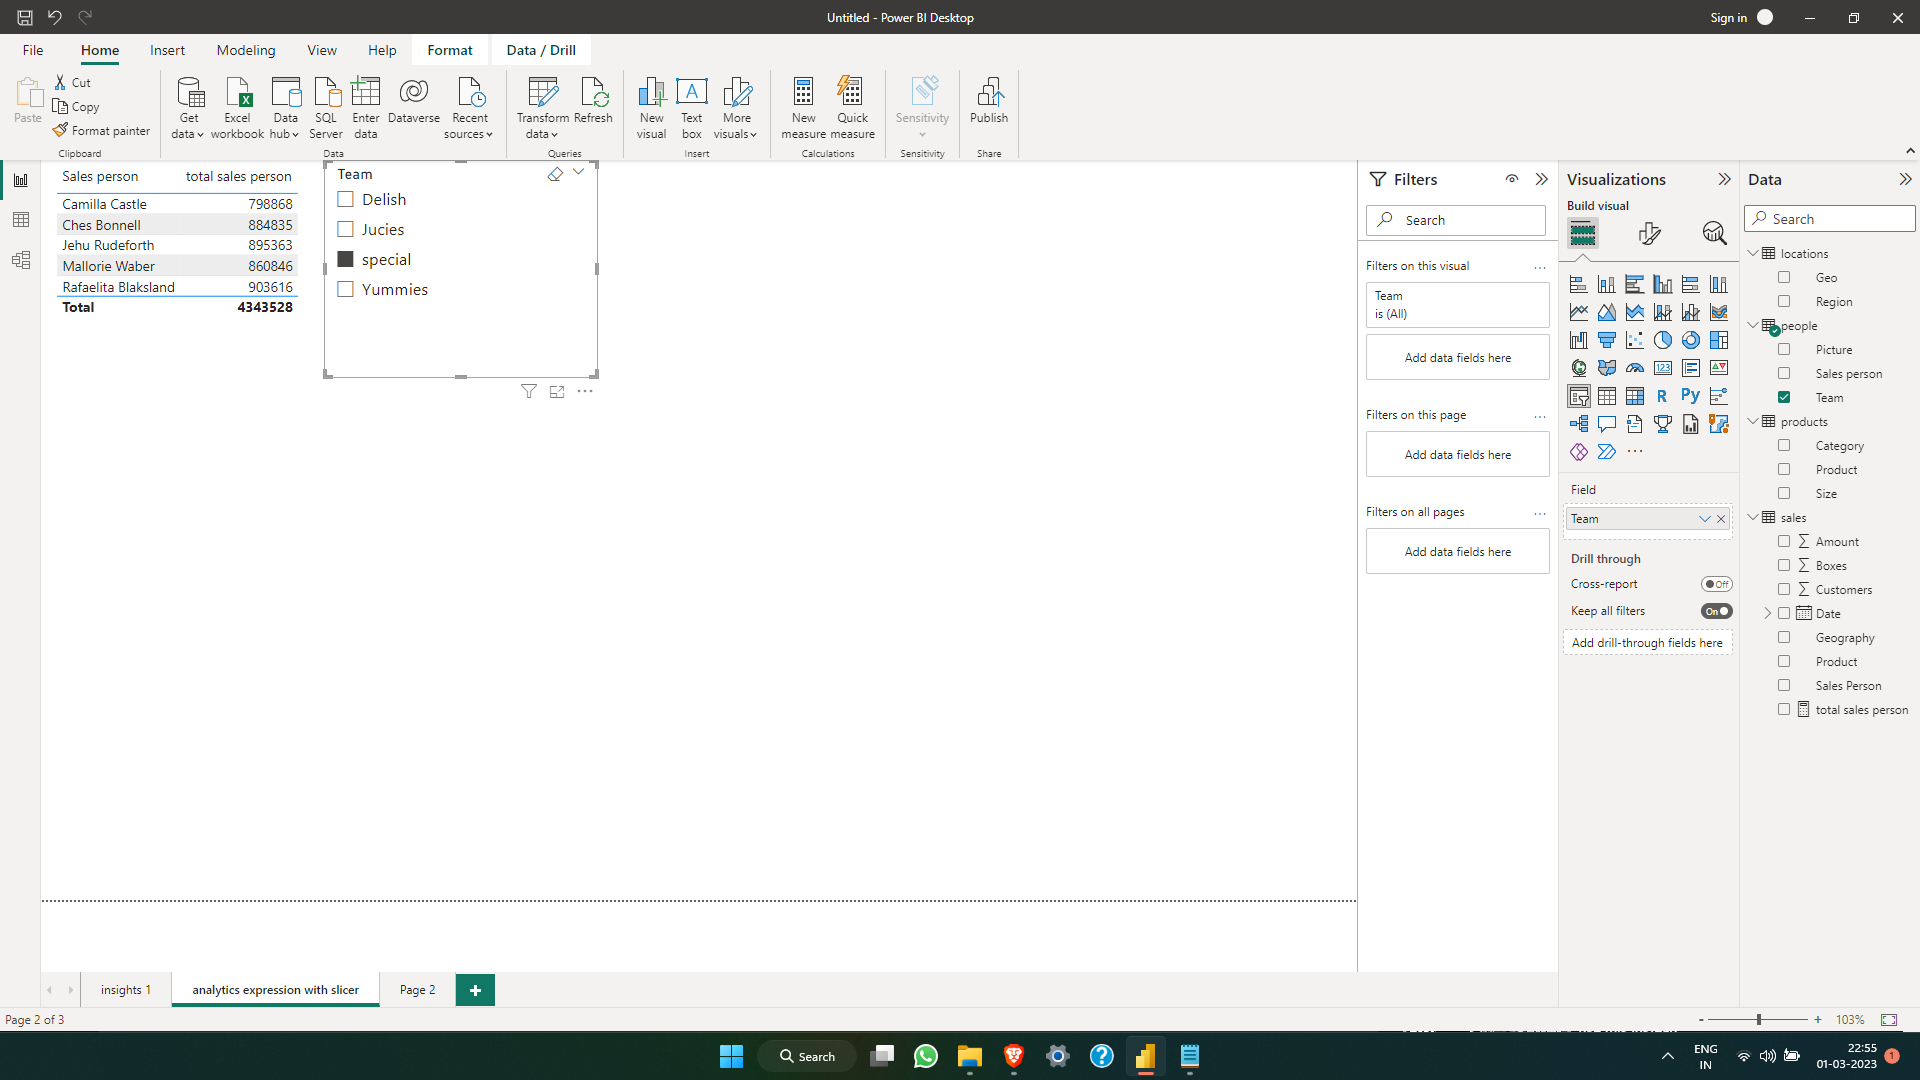

What the dashboard file says about the page in this screenshot:
{"tool":"powerbi","page":{"name":"analytics expression with slicer","canvas":[1280,720],"ordinal":1},"visuals":[{"type":"tableEx","fields":{"Values":["people.Sales person","sales.total sales person","Sum(sales.Boxes)","Sum(sales.Amount)"]},"box":[0,18.5,703.2,620.5],"z":0},{"type":"slicer","fields":{"Values":["people.Team"]},"box":[783,18.5,266.5,212],"z":1000}]}

Visuals, with their boxes on the page's 1280x720 design canvas (x1, y1, x2, y2). These are canvas units, not pixel positions in the 1920x1080 screenshot, which may show the page scaled, cropped or inside an application window:
tableEx - people.Sales person x sales.total sales person: crop(0, 18, 703, 639)
slicer - people.Team: crop(783, 18, 1050, 230)
